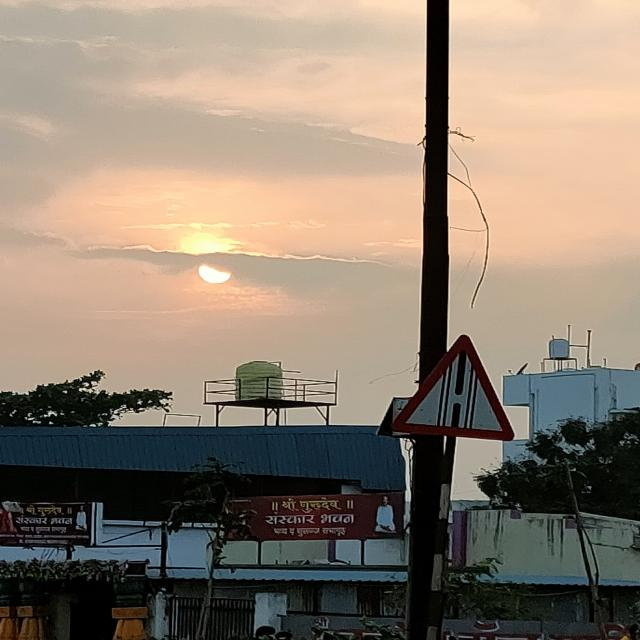ferry: (387, 333, 512, 441)
